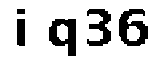3: (83, 5, 112, 51)
6: (118, 6, 149, 52)
i: (10, 3, 35, 48)
q: (45, 16, 82, 60)
